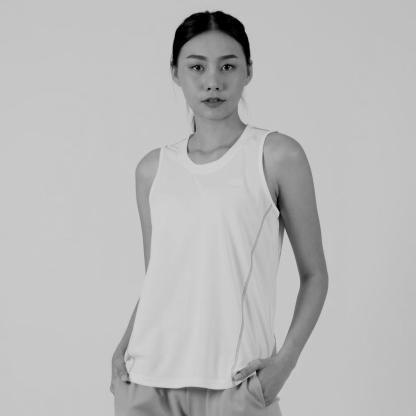jacket: (124, 123, 283, 390)
